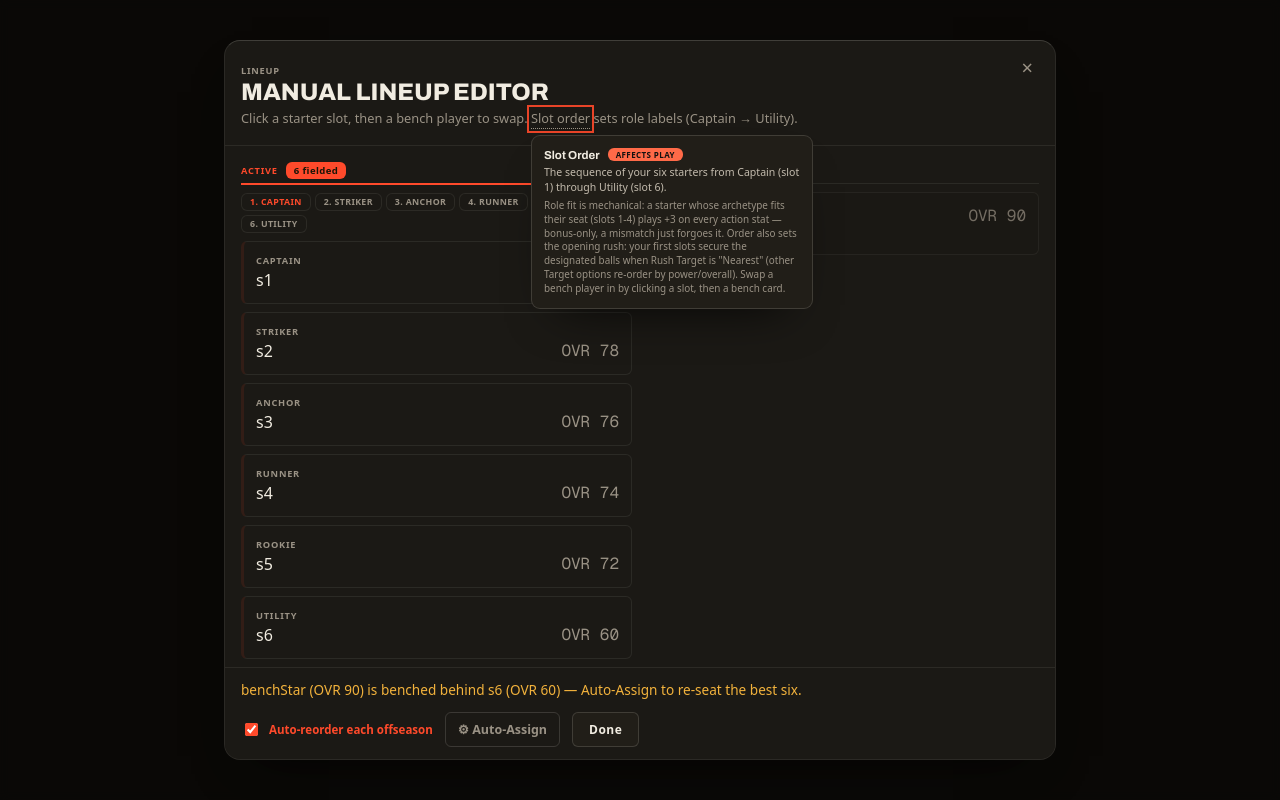
Test: LineupEditor truth behaviors (#51, #52, #53, #55) › #55: a position_count error maps to plain language with role=alert
Step 1. Click the button with test id "lineup-slot-0" → (279,261), box [241,241,632,304]
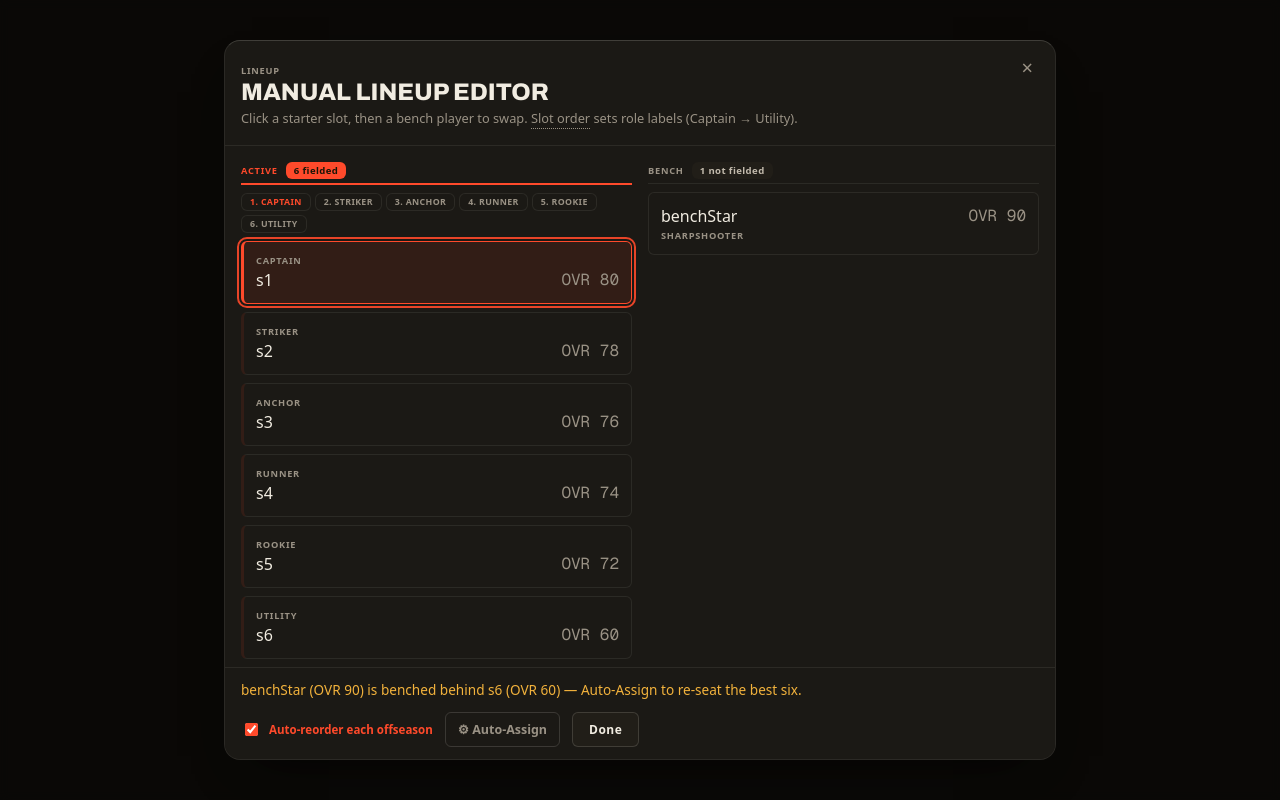
Step 2. Click the button with test id "lineup-bench-benchStar" → (699,216), box [648,192,1039,255]
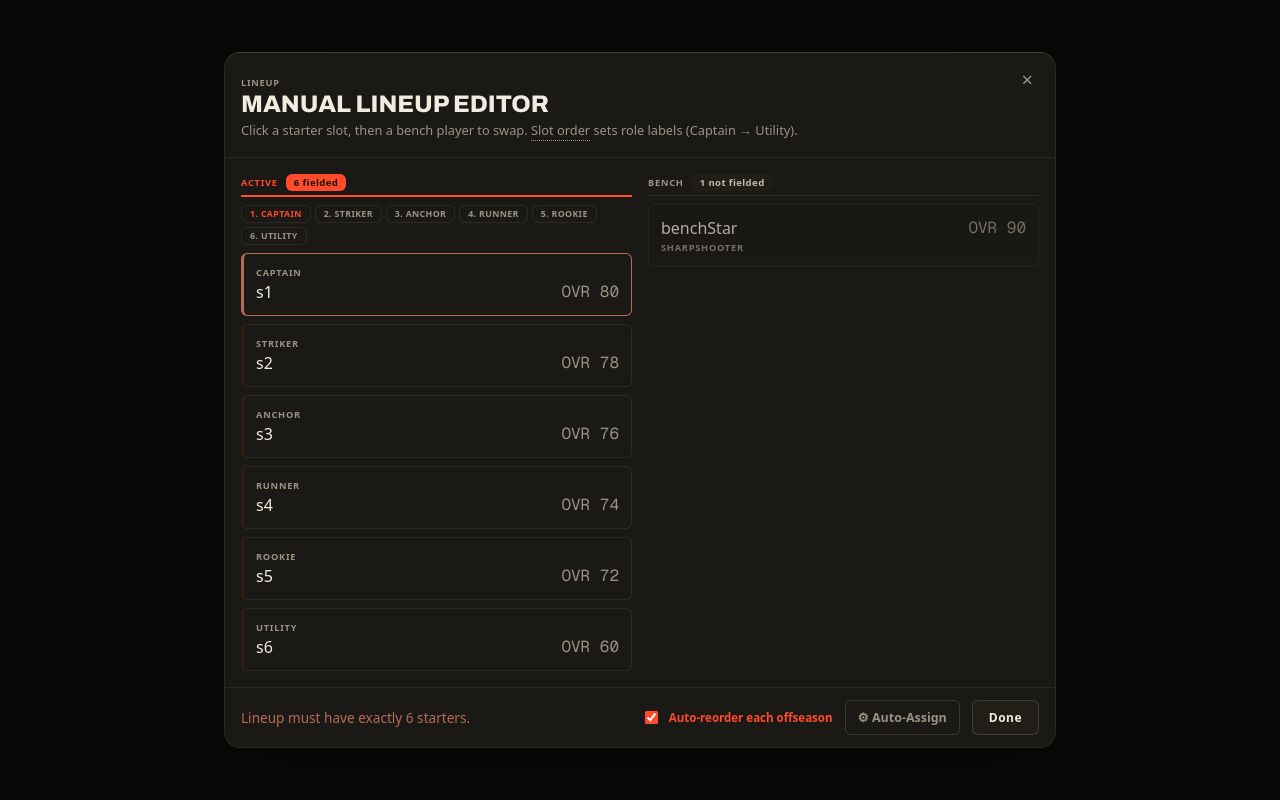
Now the message shows "exactly 6 starters", box [241,708,470,727]
